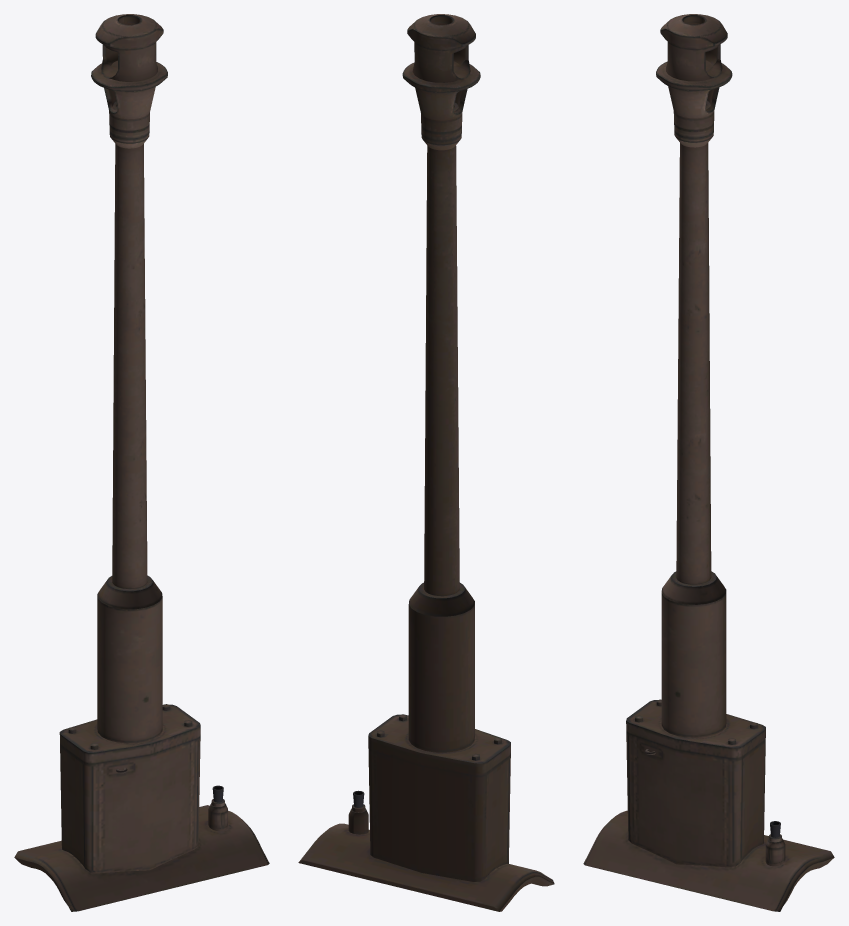
File: Gun_01.glb
3 renders of one model, left to right at view 1: azimuth 30°, elevation 25°; view 2: azimuth 150°, elevation 25°; view 3: azimuth 330°, elevation 25°, orthographic. The views are drawn at different scales.
Visible parts, largest first — view 1: set_0_group_0; view 2: set_0_group_0; view 3: set_0_group_0.
Boxes of the visible parts, x1=… form: set_0_group_0: x1=14, y1=14, x2=269, y2=911; set_0_group_0: x1=298, y1=14, x2=554, y2=911; set_0_group_0: x1=583, y1=14, x2=834, y2=911.
Bounding box in the file's own units: 0.7851 × 3.2 × 0.4041.
1 material, 1 textured.
